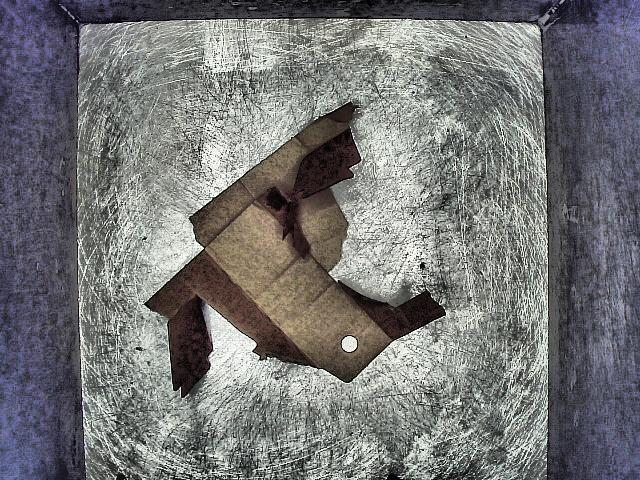Paper: (138, 89, 454, 419)
